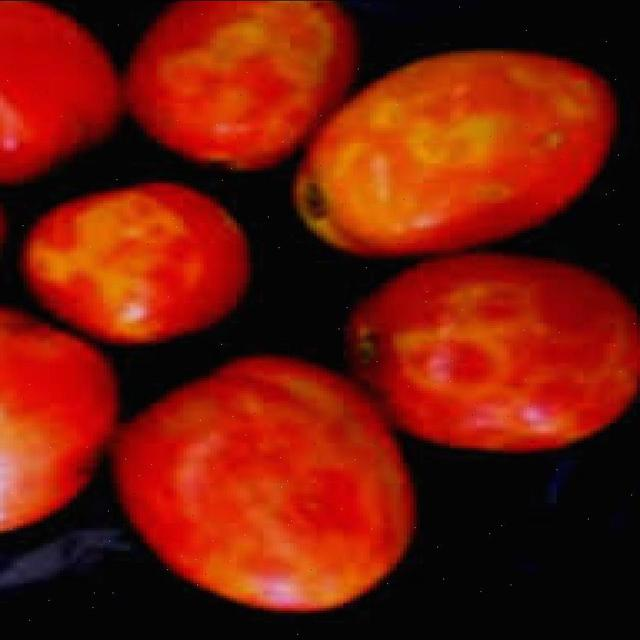Spotted wilt Virus Fruit: (0, 0, 427, 353)
